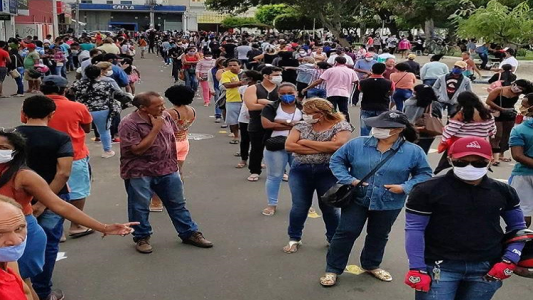mask_weared_incorrect: (1, 214, 27, 264)
with_mask: (451, 148, 492, 183), (364, 120, 405, 142), (278, 85, 300, 106), (1, 140, 17, 166), (263, 70, 283, 85)
without_mask: (140, 97, 164, 117)
